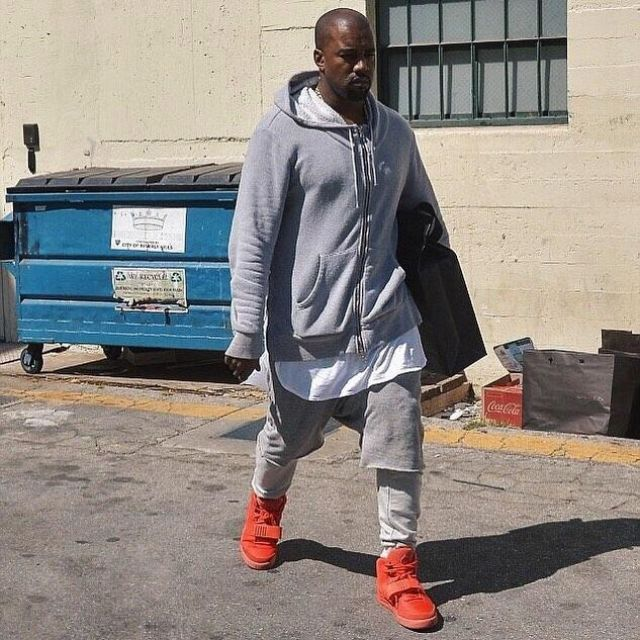Yeezy Red October: (369, 536, 457, 629), (237, 470, 297, 577)
